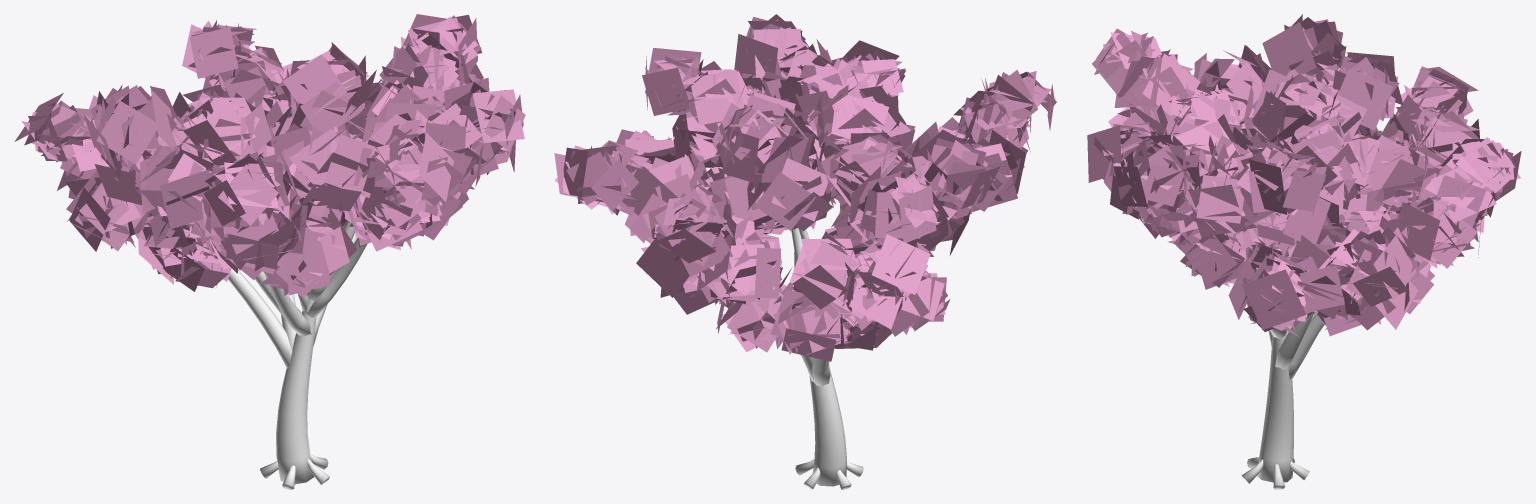
The model's file is SM_Sakura_Spread_LOD0.fbx.
3 views of the same model, side by side, from view 1: azimuth 30°, elevation 25°; view 2: azimuth 150°, elevation 25°; view 3: azimuth 270°, elevation 25° (orthographic). The views are drawn at different scales.
Visible parts, largest first — view 1: SM_Sakura_Spread_LOD0; view 2: SM_Sakura_Spread_LOD0; view 3: SM_Sakura_Spread_LOD0.
Boxes of the visible parts, x1,y1,x2,y2 form: SM_Sakura_Spread_LOD0: (14,14,525,489); SM_Sakura_Spread_LOD0: (554,14,1057,489); SM_Sakura_Spread_LOD0: (1087,14,1521,489).
Size of what is drawn, in the model's own units: 6.28 by 5.91 by 5.95.
